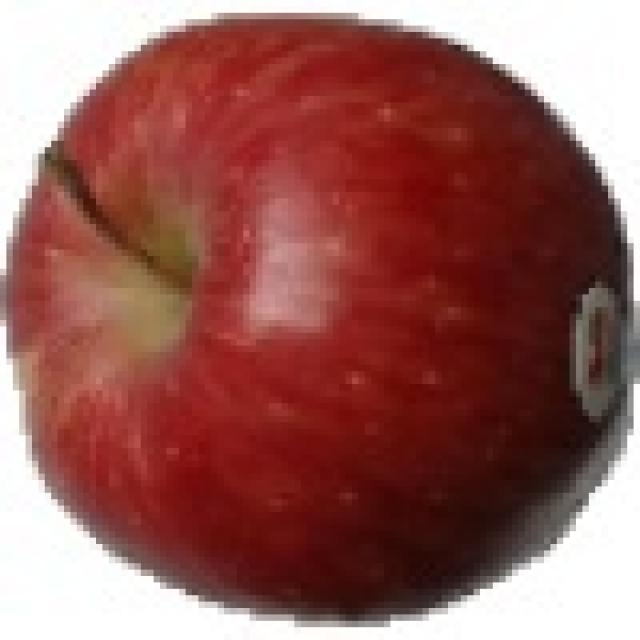apple: (10, 16, 632, 627)
